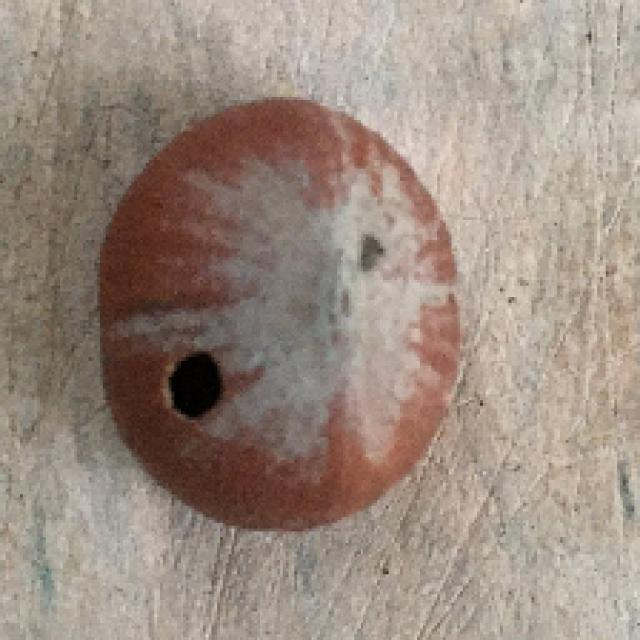damagedHazelnut: (90, 93, 467, 536)
